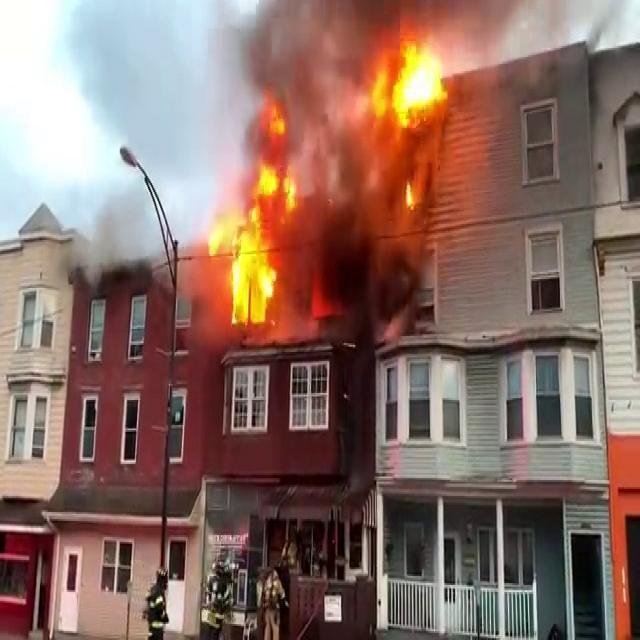Fire: (202, 114, 309, 332), (354, 23, 456, 219)
Smoke: (201, 3, 454, 320)
